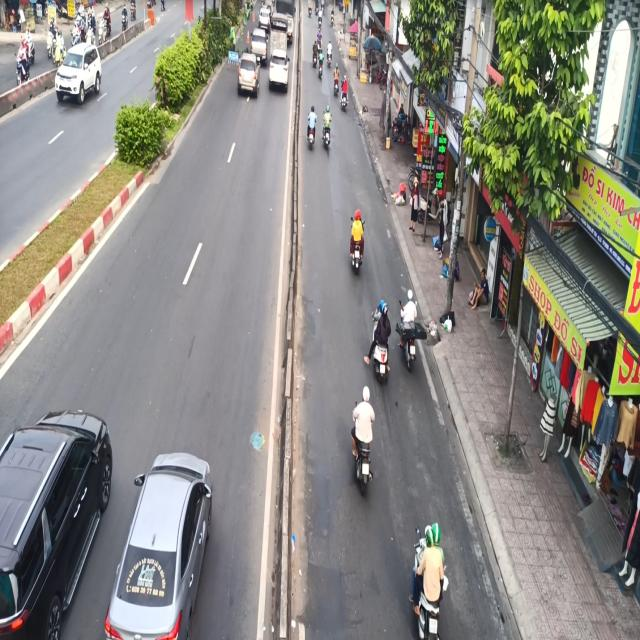car: (0, 397, 113, 639), (102, 440, 217, 640), (234, 48, 259, 106)
motor: (410, 518, 452, 630), (350, 385, 382, 497), (362, 294, 392, 385), (397, 283, 423, 369), (347, 196, 366, 276)
